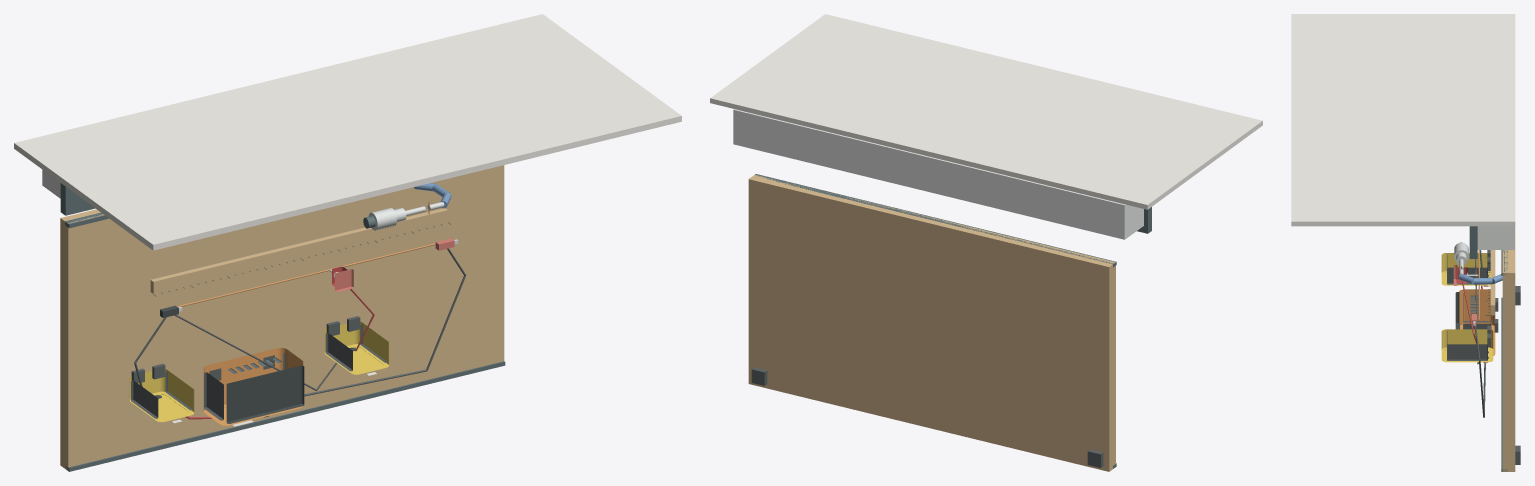
File: rp05-resistivity-wire.glb
The picture shows the model from 3 angles, left to right: view 1: azimuth 30°, elevation 25°; view 2: azimuth 150°, elevation 25°; view 3: azimuth 270°, elevation 25°; orthographic projection. The views are drawn at different scales.
Parts seen in each view (by area): view 1: Laboratory background wall, Laboratory bench laminate, Metre rule, Low voltage DC power supply top shell, Laboratory bench dark edge, Low voltage DC power supply, Ammeter yellow case, Voltmeter yellow case, Low voltage DC power supply left bumper; view 2: Laboratory bench laminate, Laboratory background wall, Laboratory background cabinet carcass, Laboratory bench rear edge; view 3: Laboratory background wall, Laboratory bench laminate, Low voltage DC power supply, Voltmeter yellow case, Laboratory background cabinet carcass, Voltmeter right rubber side, Ammeter yellow case, Laboratory bench dark edge, Ammeter right rubber side, Metre rule, Laboratory background worktop.
Boxes of the visible parts, x1,y1,x2,y2 form: Laboratory background wall: (14,14,681,250); Laboratory bench laminate: (60,165,504,470); Metre rule: (150,208,447,293); Low voltage DC power supply top shell: (226,365,304,423); Laboratory bench dark edge: (65,361,505,471); Low voltage DC power supply: (203,348,303,425); Ammeter yellow case: (129,369,194,422); Voltmeter yellow case: (324,322,388,374); Low voltage DC power supply left bumper: (204,372,223,420); Laboratory bench laminate: (748,175,1115,471); Laboratory background wall: (710,14,1262,209); Laboratory background cabinet carcass: (733,109,1143,239); Laboratory bench rear edge: (755,174,1116,267); Laboratory background wall: (1291,14,1515,226); Laboratory bench laminate: (1502,226,1515,471); Low voltage DC power supply: (1459,289,1495,355); Voltmeter yellow case: (1441,329,1493,362); Laboratory background cabinet carcass: (1477,226,1514,249); Voltmeter right rubber side: (1447,344,1487,360); Ammeter yellow case: (1441,253,1490,285); Laboratory bench dark edge: (1501,297,1507,471); Ammeter right rubber side: (1447,267,1487,284); Metre rule: (1490,250,1495,315); Laboratory background worktop: (1469,226,1477,258).
Size of the model in its own units: 11.4 by 6.88 by 5.32.
